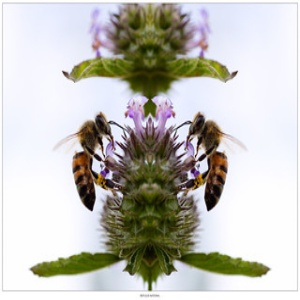bee: (52, 112, 131, 217), (172, 112, 250, 216)
